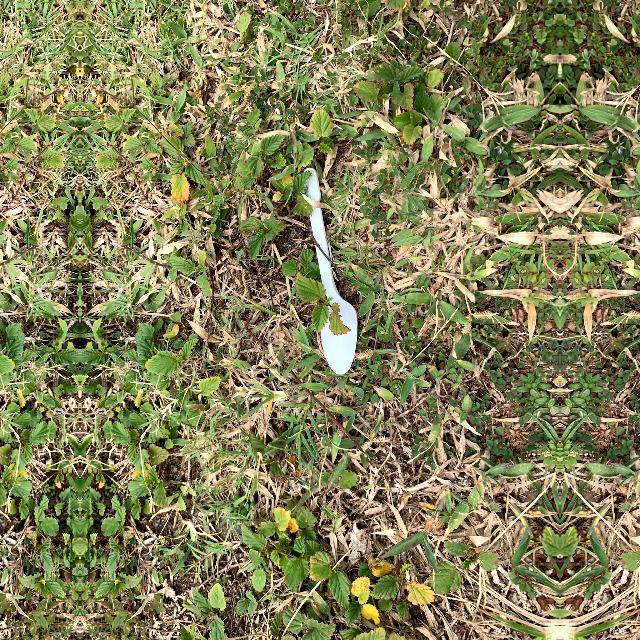Plastic: (293, 165, 362, 383)
